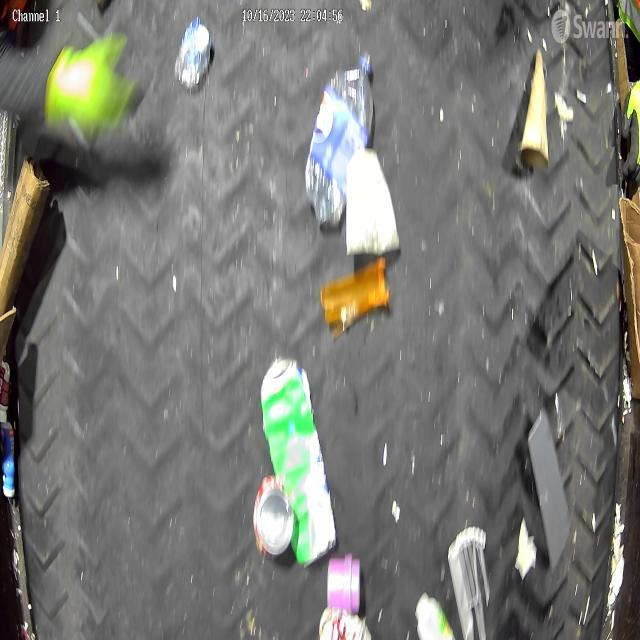plastic_bottle: (305, 44, 374, 235), (252, 472, 294, 566)
